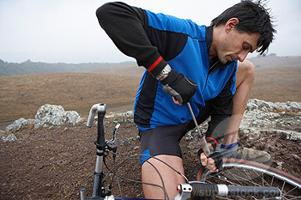person: (95, 2, 275, 200)
